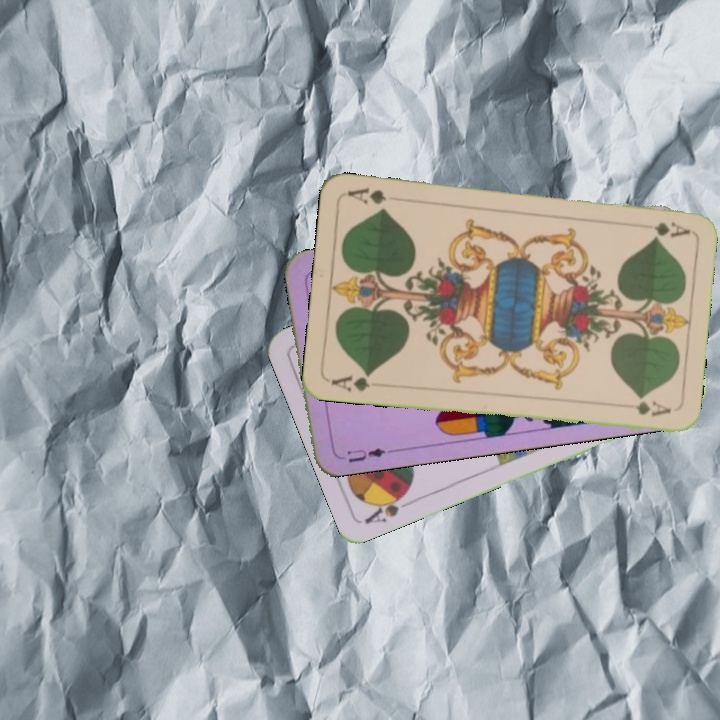EU: (342, 444, 394, 465)
GA: (633, 218, 692, 239), (327, 369, 374, 394)
SA: (361, 486, 412, 527)
